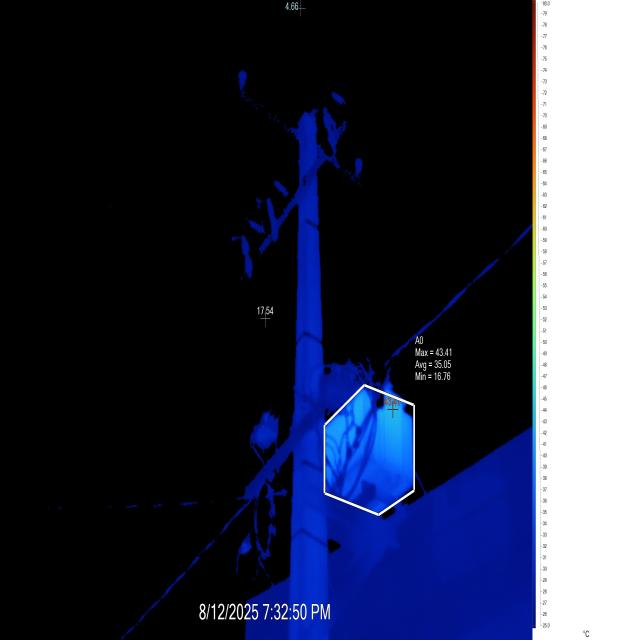Transformer: (116, 20, 525, 639)
